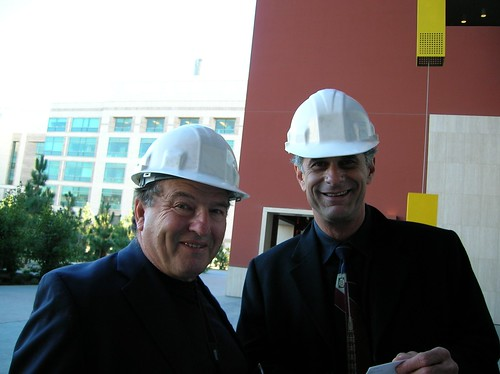person hardhat: (270, 89, 500, 374), (27, 120, 256, 374)
